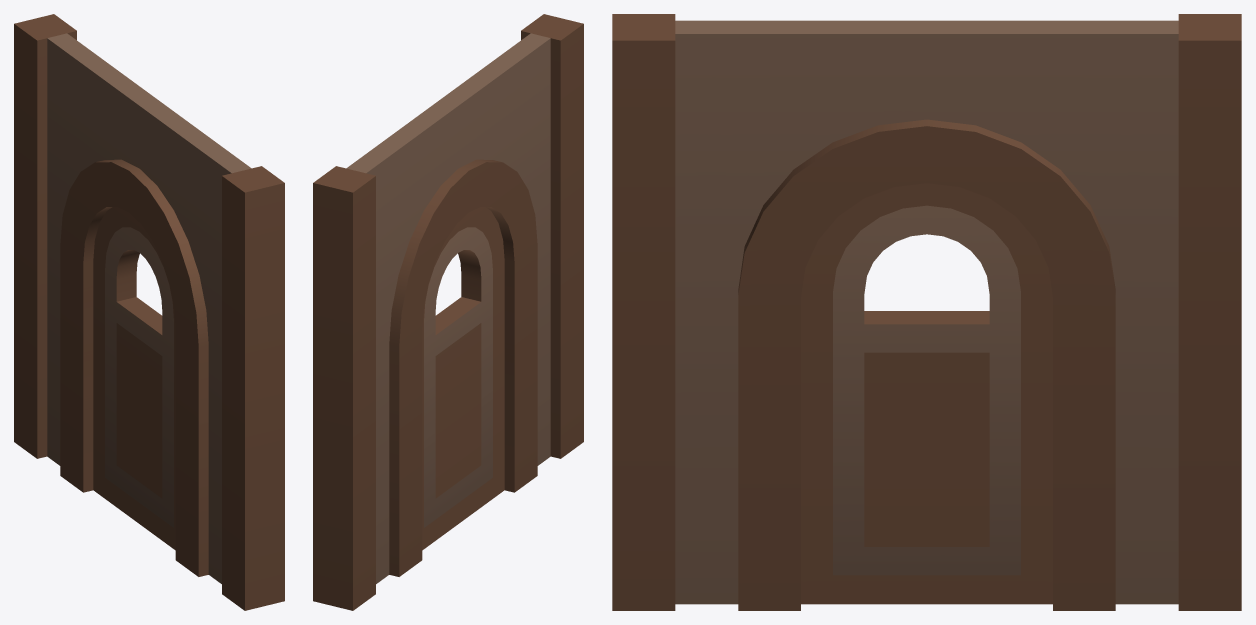
The model's file is wall-wood-door.glb.
3 views of the same model, side by side, from view 1: azimuth 30°, elevation 25°; view 2: azimuth 150°, elevation 25°; view 3: azimuth 270°, elevation 25° (orthographic). The views are drawn at different scales.
Visible parts, largest first — view 1: wall-wood-door; view 2: wall-wood-door; view 3: wall-wood-door.
Part boxes in pixels (left/top/right/bottom): wall-wood-door: left=14, top=14, right=284, bottom=610; wall-wood-door: left=313, top=14, right=583, bottom=610; wall-wood-door: left=612, top=14, right=1241, bottom=610.
Size of the model in its own units: 0.1 by 1 by 1.
1 material, 1 textured.
